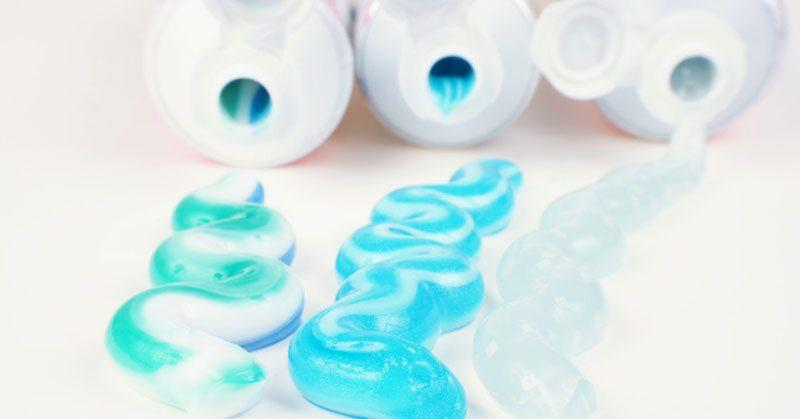toothpaste: (138, 0, 358, 179), (346, 0, 559, 164), (578, 0, 776, 152)
